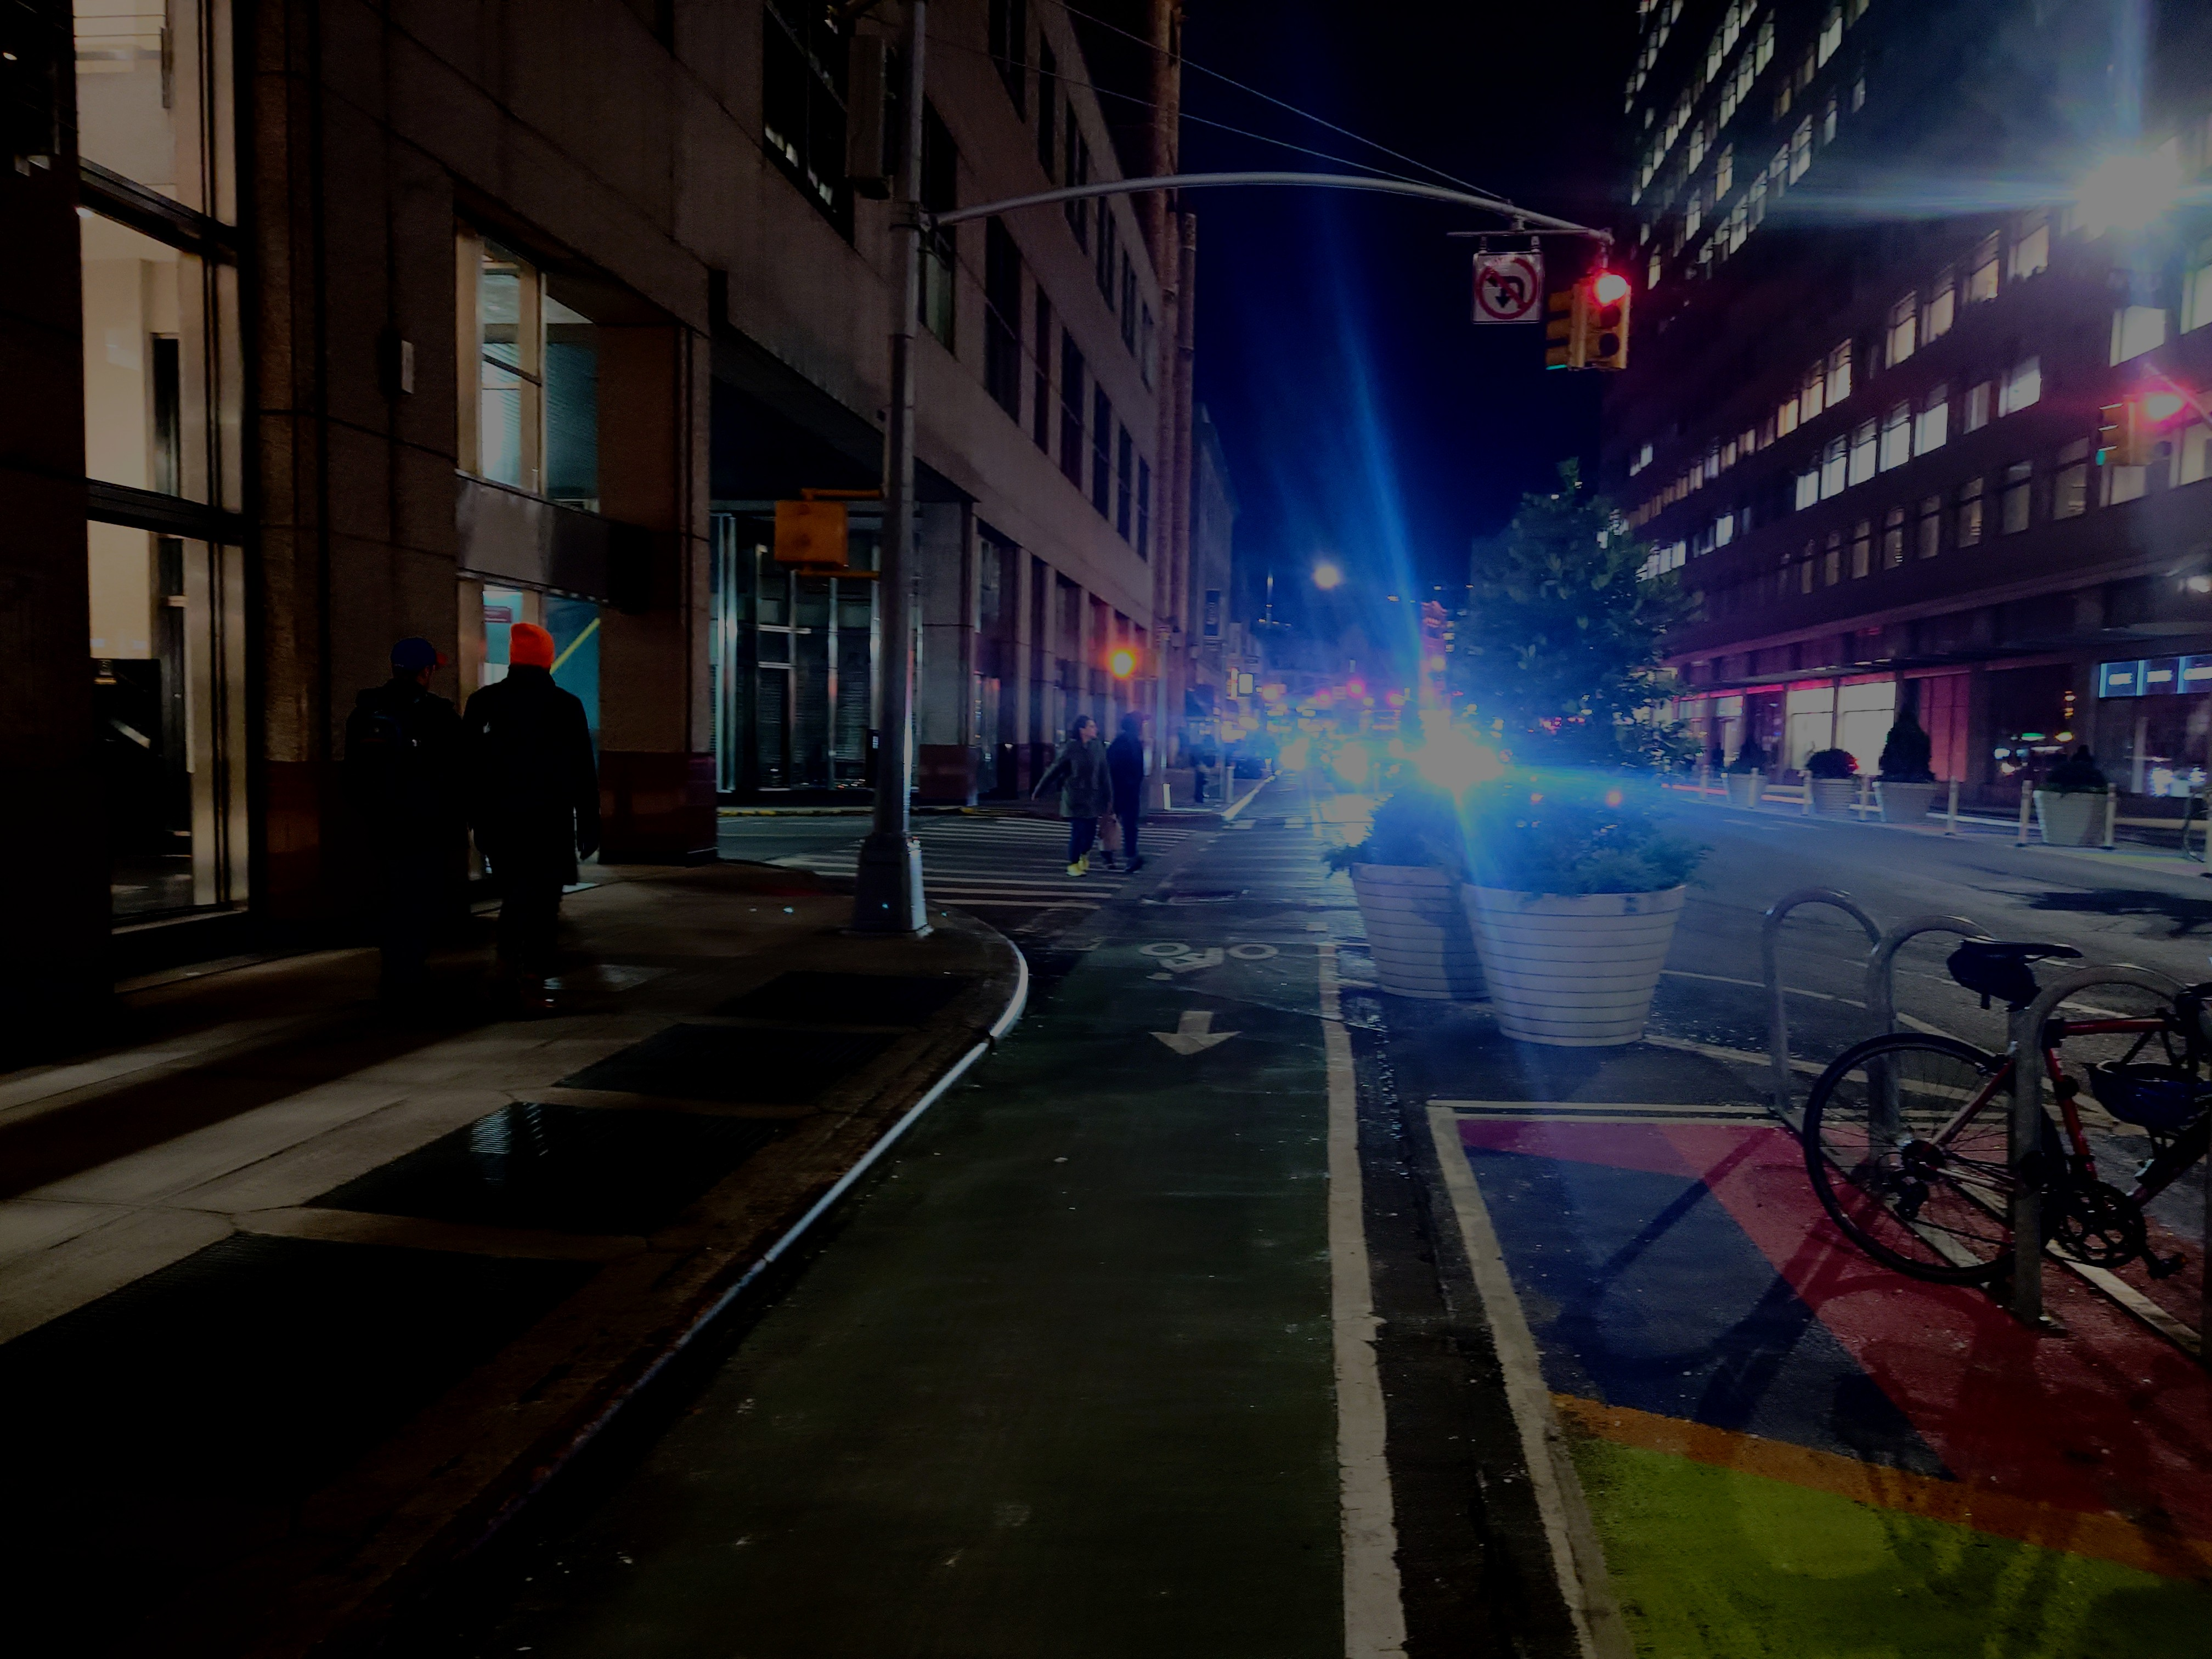person: (462, 623, 594, 1008), (343, 638, 460, 996), (1051, 716, 1108, 883), (1110, 714, 1154, 873)
